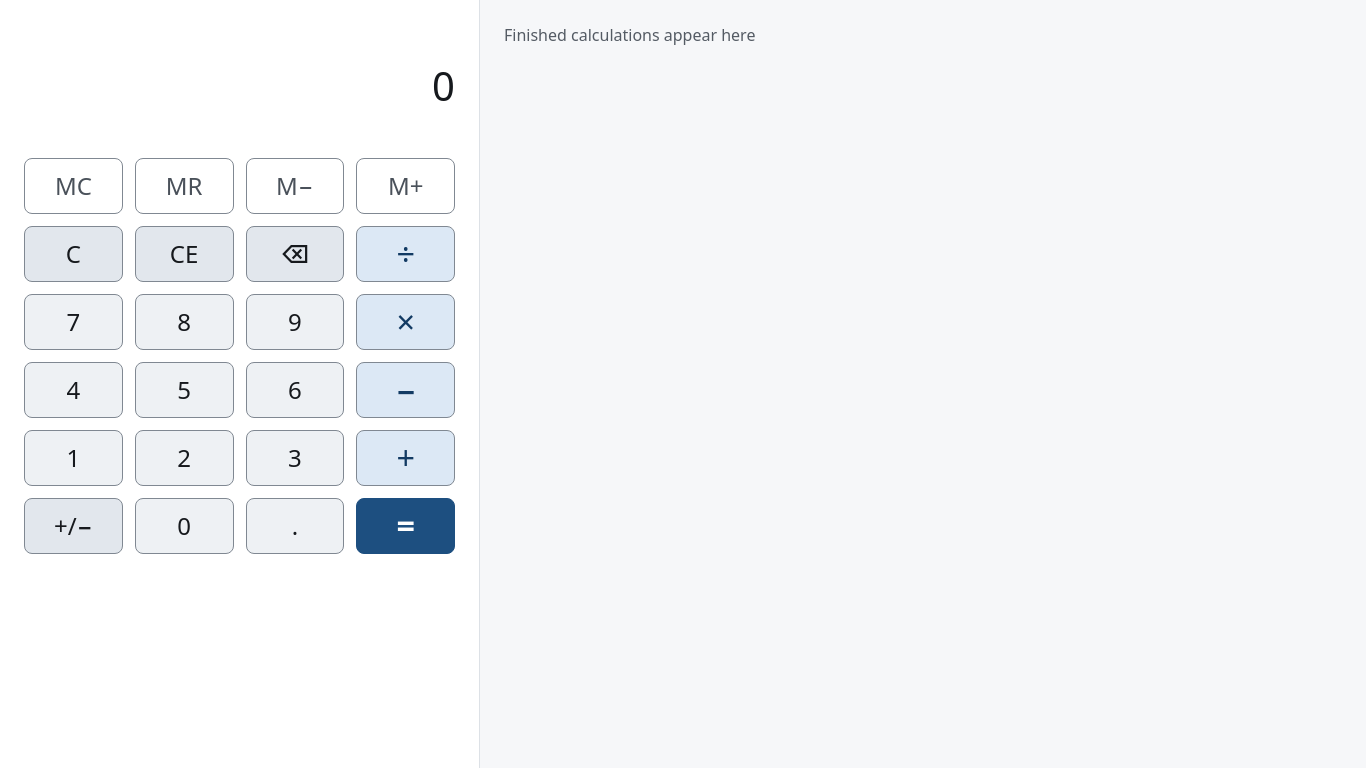
Test: S-2 Use the on-screen keys › AC-2.1: tapping 1 2 + 3 = shows 15
What coordinates should you click on to do the following:
click the button "1"
I would click on:
 (73, 458)
Its box is x1=24 y1=430 x2=123 y2=486.
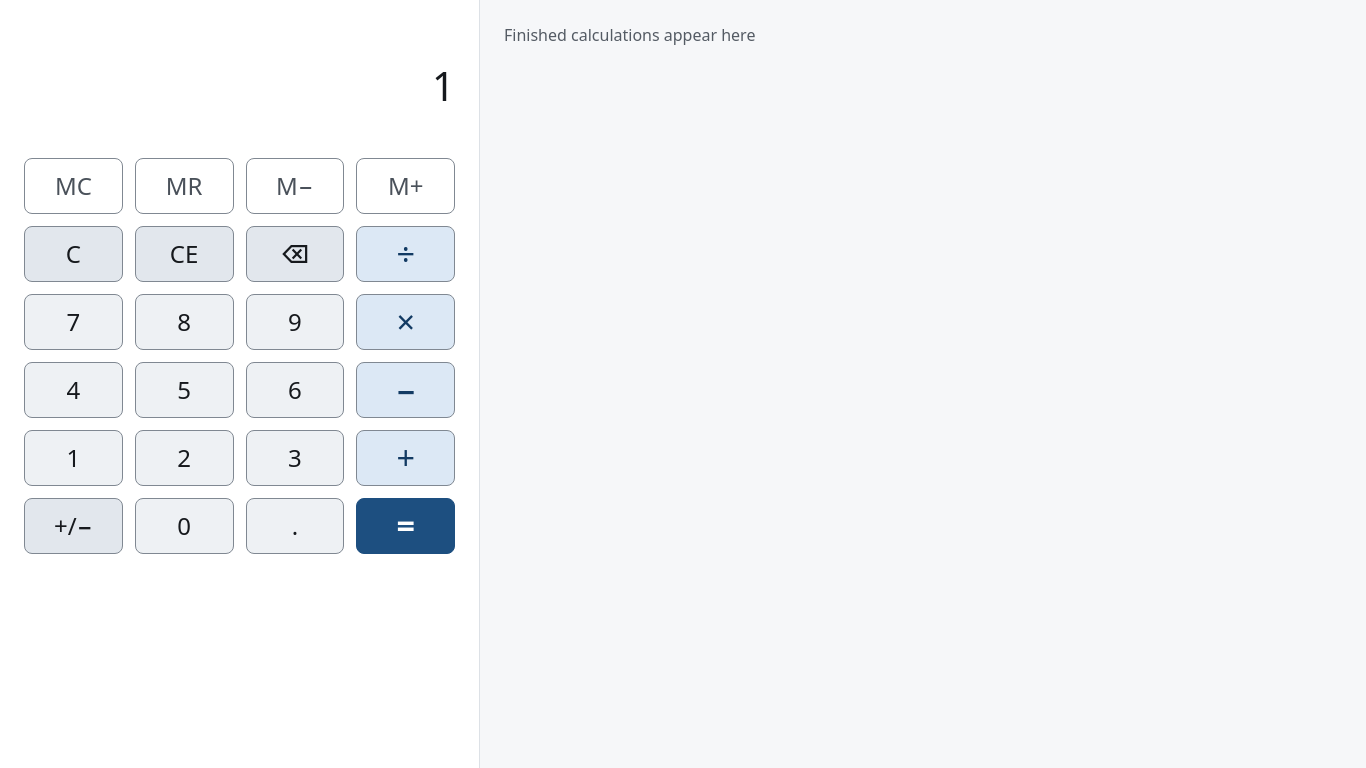
What coordinates should you click on to do the following:
click the button "2"
I would click on:
 (184, 458)
Its box is x1=135 y1=430 x2=234 y2=486.
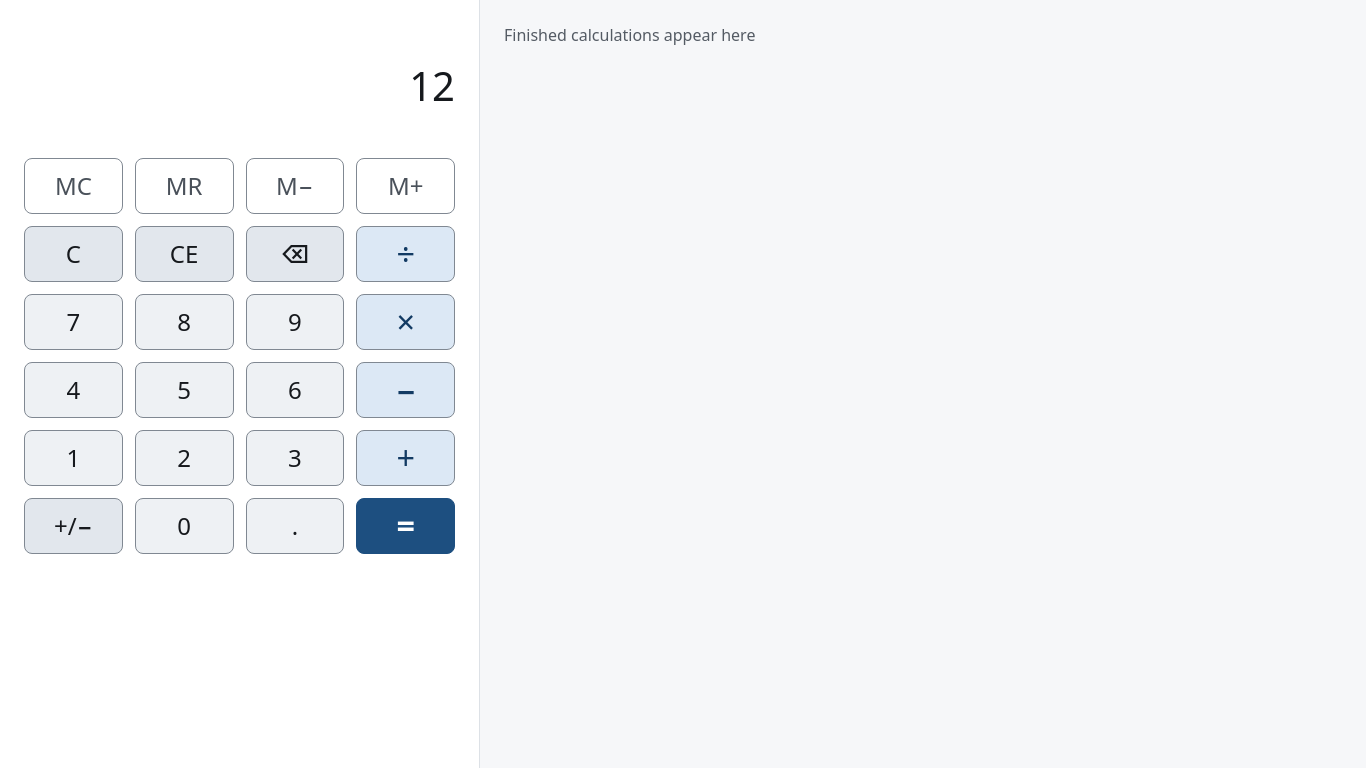
What coordinates should you click on to do the following:
click the button named "plus"
I would click on:
 (406, 458)
Its box is x1=356 y1=430 x2=455 y2=486.
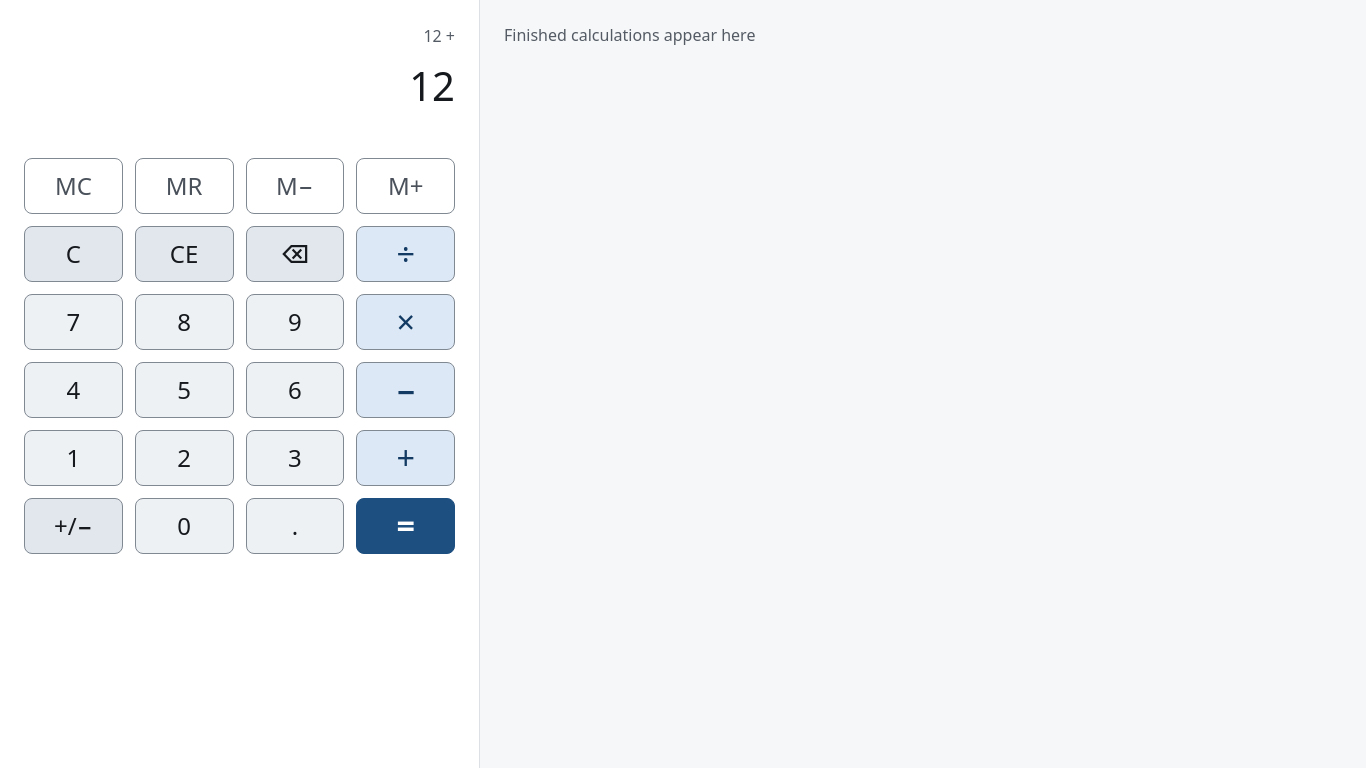
What coordinates should you click on to do the following:
click the button "3"
I would click on:
 (295, 458)
Its box is x1=246 y1=430 x2=344 y2=486.
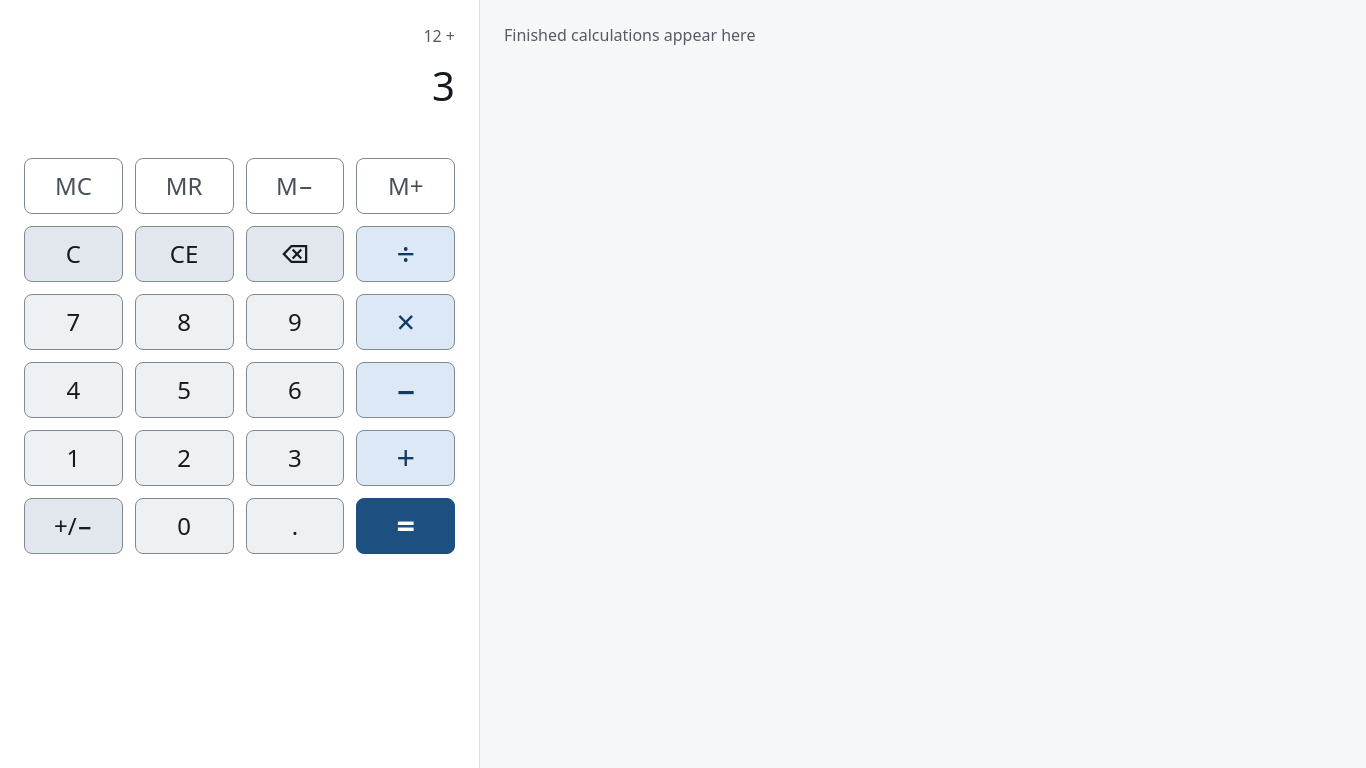
What coordinates should you click on to do the following:
click the button named "equals"
I would click on:
 (406, 526)
Its box is x1=356 y1=498 x2=455 y2=554.
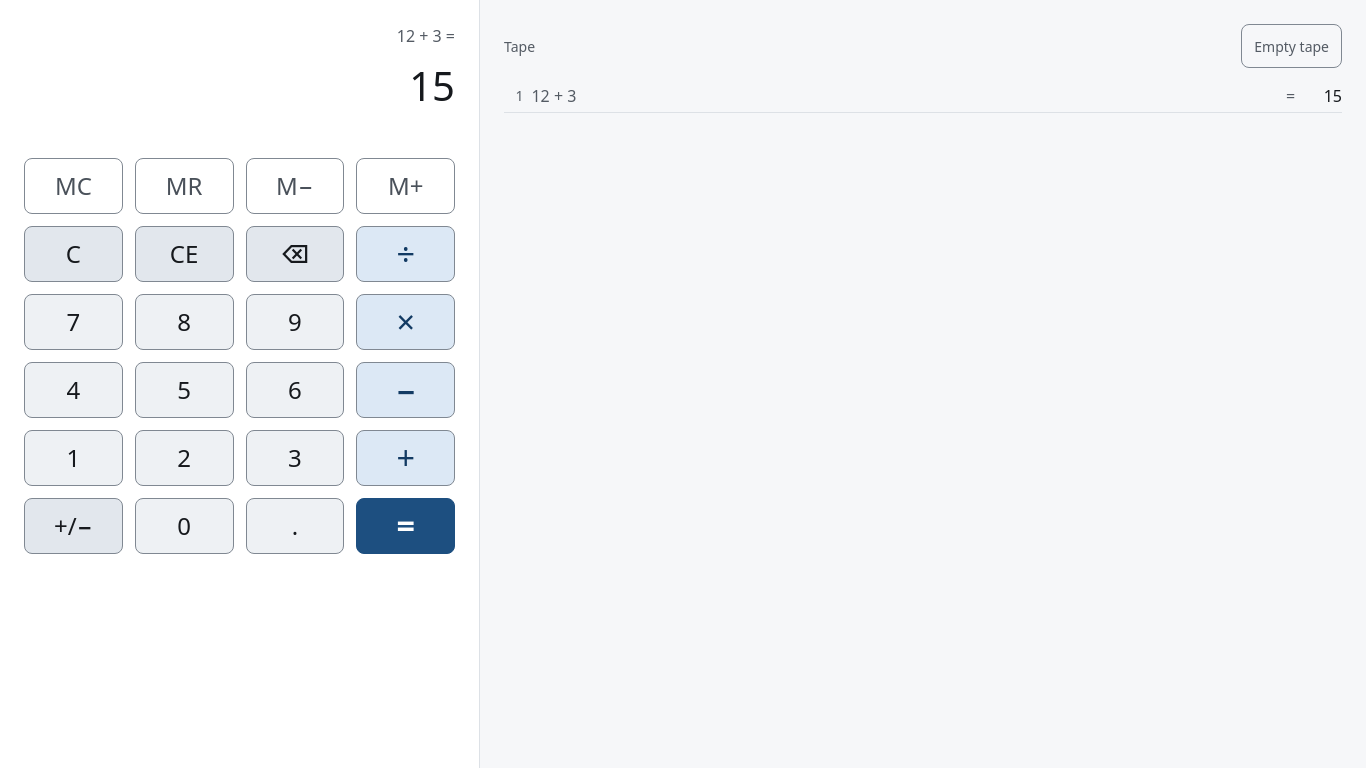
Expected: the message reads "15", x1=409 y1=58 x2=455 y2=113
